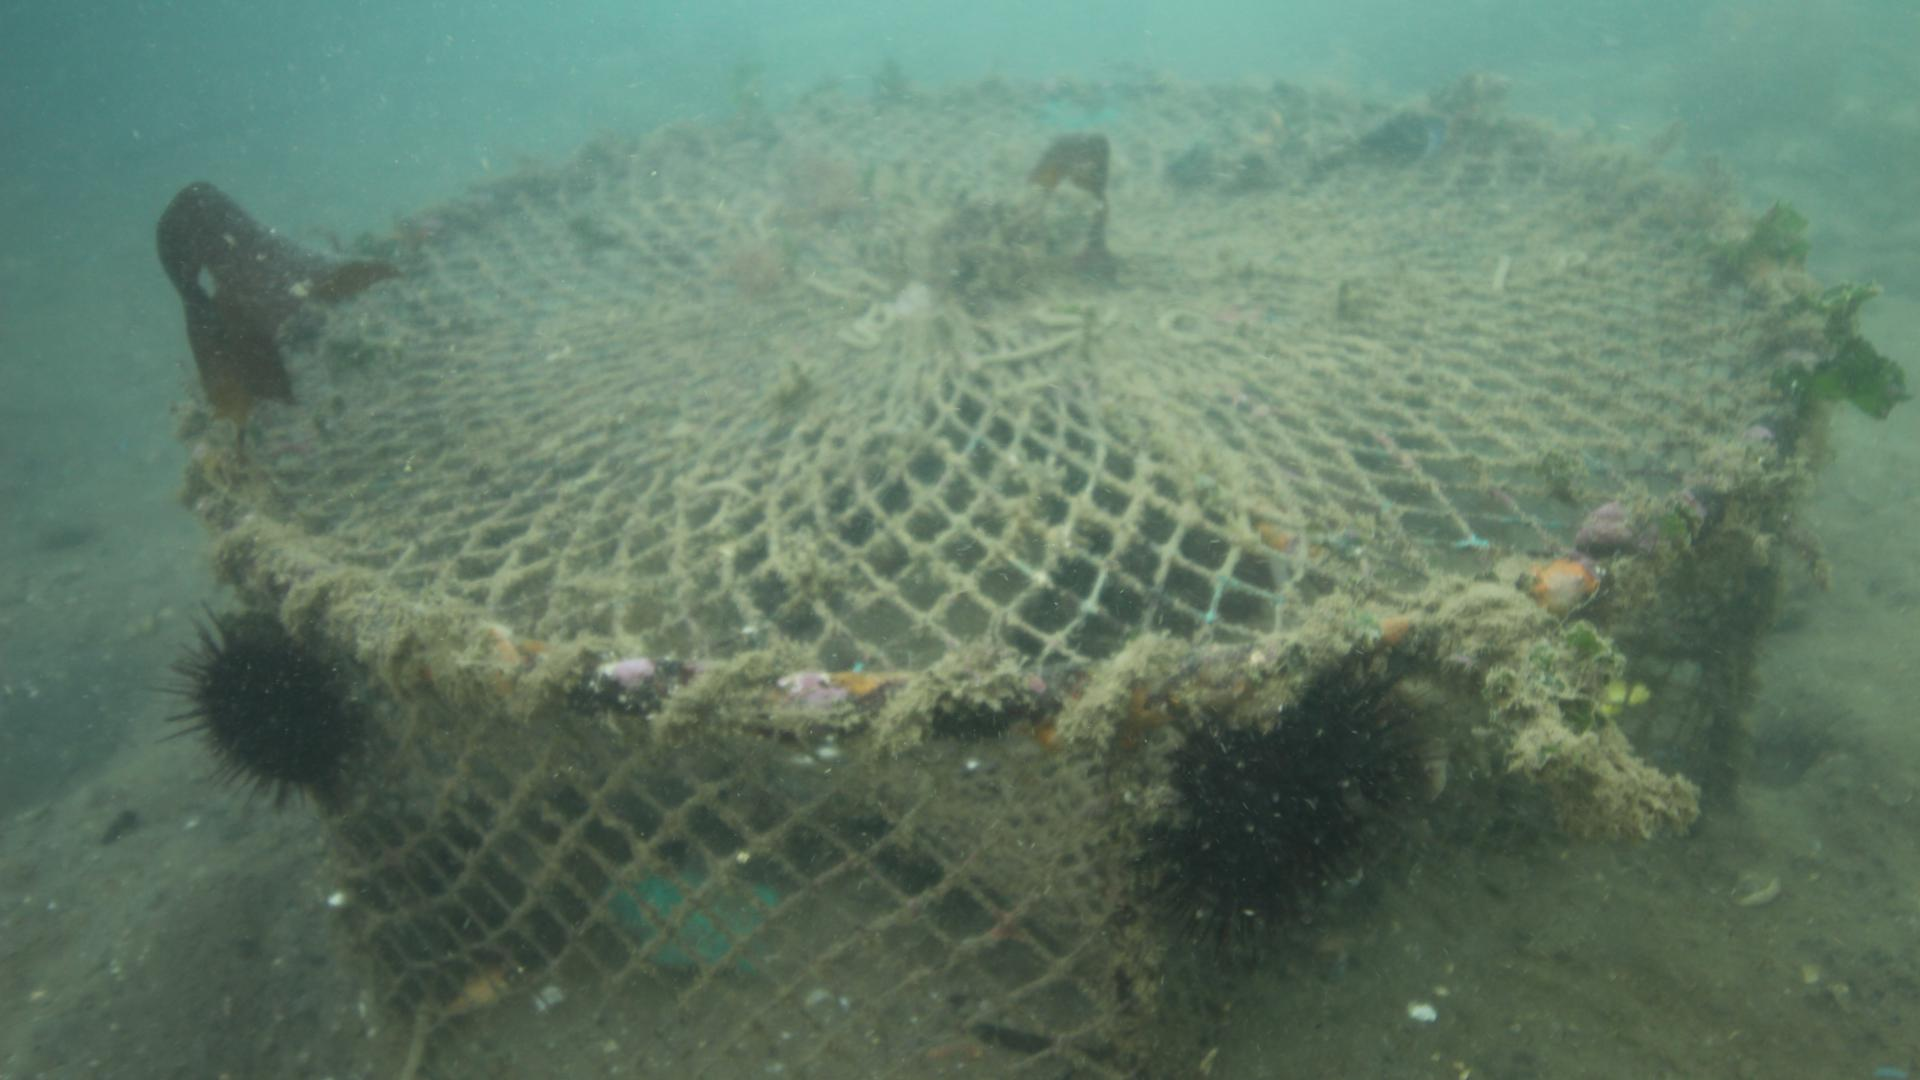circular fish trap: (178, 71, 1826, 1080)
